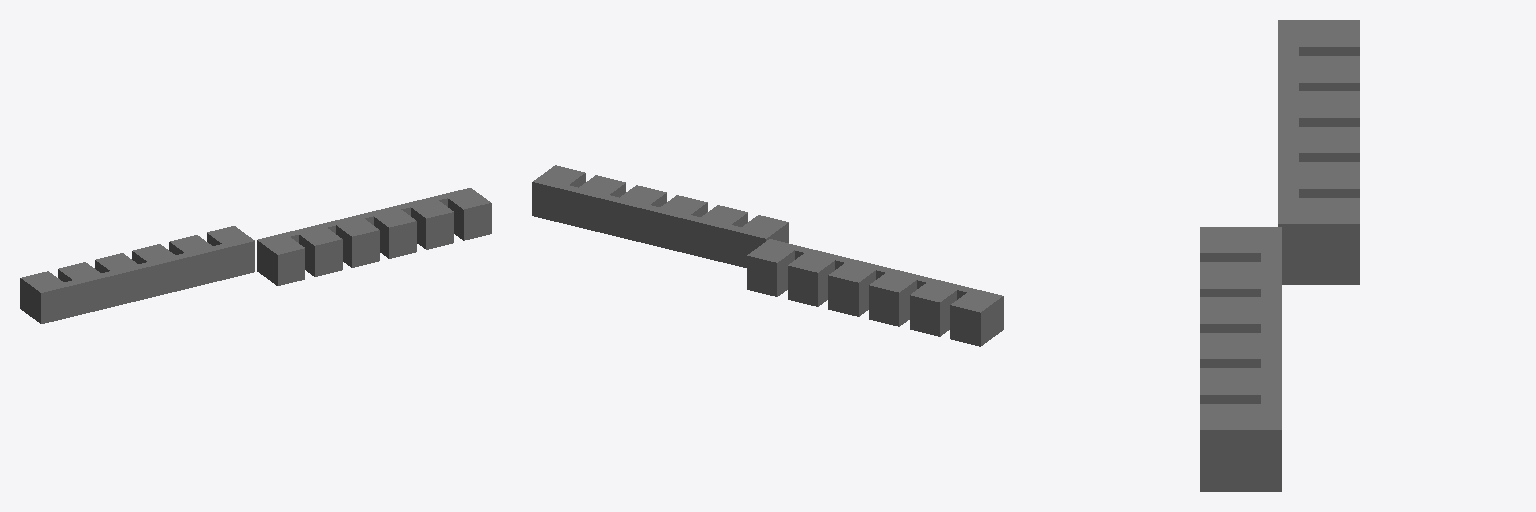
robot.urdf — yumi:
<?xml version="1.0" ?>
<!-- =================================================================================== -->
<!-- |    This document was autogenerated by xacro from yumi.urdf.xacro                | -->
<!-- |    EDITING THIS FILE BY HAND IS NOT RECOMMENDED                                 | -->
<!-- =================================================================================== -->
<robot name="yumi" xmlns:xacro="http://www.ros.org/wiki/xacro">
  <material name="Black">
    <color rgba="0.0 0.0 0.0 1.0"/>
  </material>
  <material name="Blue">
    <color rgba="0.0 0.0 0.8 1.0"/>
  </material>
  <material name="Green">
    <color rgba="0.0 0.8 0.0 1.0"/>
  </material>
  <material name="Grey">
    <color rgba="0.5 0.5 0.5 1.0"/>
  </material>
  <material name="Light_Grey">
    <color rgba="0.8 0.8 0.8 1.0"/>
  </material>
  <material name="Ivory">
    <color rgba="1.0 1.0 0.94 1.0"/>
  </material>
  <material name="Orange">
    <color rgba="1.0 0.423529411765 0.0392156862745 1.0"/>
  </material>
  <material name="Brown">
    <color rgba="0.870588235294 0.811764705882 0.764705882353 1.0"/>
  </material>
  <material name="Red">
    <color rgba="0.8 0.0 0.0 1.0"/>
  </material>
  <material name="White">
    <color rgba="1.0 1.0 1.0 1.0"/>
  </material>

  <link name="gripper_r_base">
    <inertial>
      <origin rpy="0 0 0" xyz="0 0 0"/>
      <mass value="0.2"/>
      <inertia ixx="0.0001" ixy="0" ixz="0" iyy="0.0001" iyz="0" izz="0.0001"/>
    </inertial>
    <visual>
      <origin rpy="0 0 0" xyz="0 0 0"/>
      <geometry>
        <mesh filename="package://yumi_description/meshes/gripper/base.stl"/>
      </geometry>
      <material name="Light_Grey"/>
    </visual>
    <collision>
      <origin rpy="0 0 0" xyz="0 0 0"/>
      <geometry>
        <mesh filename="package://yumi_description/meshes/gripper/coarse/base_100_nov17.obj"/>
      </geometry>
      <material name="Light_Grey"/>
    </collision>
  </link>
  <!-- joint between base and right finger -->
  <joint name="gripper_r_joint" type="prismatic">
    <parent link="gripper_r_base"/>
    <child link="gripper_r_finger_r"/>
    <origin rpy="0 0 0" xyz="0 -0.00535 0.0837"/>
    <axis xyz="-1 0 0"/>
    <limit effort="300" lower="0" upper="0.0307" velocity="0.02"/>
    <!--   <safety_controller soft_lower_limit="${-168 * M_PI / 180}"
           soft_upper_limit="${168 * M_PI / 180}"
           k_position="${safety_controller_k_pos}"
           k_velocity="${safety_controller_k_vel}"/> -->
    <dynamics damping="0.5"/>
  </joint>
  <link name="gripper_r_finger_r">
    <inertial>
      <origin rpy="0 0 0" xyz="0 0 0"/>
      <mass value="0.01"/>
      <inertia ixx="0.000001" ixy="0" ixz="0" iyy="0.000001" iyz="0" izz="0.000001"/>
    </inertial>
    <visual>
      <origin rpy="0 0 0" xyz="0 0 0"/>
      <geometry>
        <mesh filename="package://yumi_description/meshes/gripper/finger.stl"/>
      </geometry>
      <material name="Grey"/>
    </visual>
    <collision>
      <origin rpy="0 0 0" xyz="0 0 0"/>
      <geometry>
        <mesh filename="package://yumi_description/meshes/gripper/coarse/finger_s_nohole_sim_nov17.obj"/>
      </geometry>
      <material name="Grey"/>
    </collision>
  </link>
  <!-- joint between base and left finger -->
  <joint name="gripper_r_joint_m" type="prismatic">
    <parent link="gripper_r_base"/>
    <child link="gripper_r_finger_l"/>
    <origin rpy="0 0 3.14159265359" xyz="0 0.00535 0.0837"/>
    <axis xyz="-1 0 0"/>
    <limit effort="300" lower="0" upper="0.0307" velocity="0.02"/>
    <!--   <safety_controller soft_lower_limit="${-168 * M_PI / 180}"
           soft_upper_limit="${168 * M_PI / 180}"
           k_position="${safety_controller_k_pos}"
           k_velocity="${safety_controller_k_vel}"/> -->
    <dynamics damping="0.5"/>
    <mimic joint="gripper_r_joint"/>
  </joint>
  <link name="gripper_r_finger_l">
    <inertial>
      <origin rpy="0 0 0" xyz="0 0 0"/>
      <mass value="0.01"/>
      <inertia ixx="0.000001" ixy="0" ixz="0" iyy="0.000001" iyz="0" izz="0.000001"/>
    </inertial>
    <visual>
      <origin rpy="0 0 0" xyz="0 0 0"/>
      <geometry>
        <mesh filename="package://yumi_description/meshes/gripper/finger.stl"/>
      </geometry>
      <material name="Grey"/>
    </visual>
    <collision>
      <origin rpy="0 0 0" xyz="0 0 0"/>
      <geometry>
        <mesh filename="package://yumi_description/meshes/gripper/coarse/finger_s_nohole_sim_nov17.obj"/>
      </geometry>
      <material name="Grey"/>
    </collision>
  </link>
 </robot>

--- What the picture shows (computed from the rendered views, not written in the file) ---
3 views of the same robot in one strip: view 1: azimuth 30°, elevation 25°; view 2: azimuth 150°, elevation 25°; view 3: azimuth 270°, elevation 25° (orthographic).
Robot: yumi — 3 links, 2 joints (2 prismatic); root link gripper_r_base; default pose: all joints at 0.
Visible links, largest first — view 1: gripper_r_finger_r, gripper_r_finger_l; view 2: gripper_r_finger_r, gripper_r_finger_l; view 3: gripper_r_finger_l, gripper_r_finger_r.
Link boxes in pixels (<box>): gripper_r_finger_r: <box>20,226,254,323</box>; gripper_r_finger_l: <box>257,188,491,285</box>; gripper_r_finger_r: <box>747,239,1003,346</box>; gripper_r_finger_l: <box>532,165,788,267</box>; gripper_r_finger_l: <box>1200,227,1281,491</box>; gripper_r_finger_r: <box>1278,20,1359,284</box>.
Bounding box of the posed robot: 2.1 × 0.3457 × 0.1464 m (x, y, z).
2 mesh visuals loaded from 2 distinct referenced files (1 ASCII STL); not drawn: 1 (reference not matched to a file when rendering).
